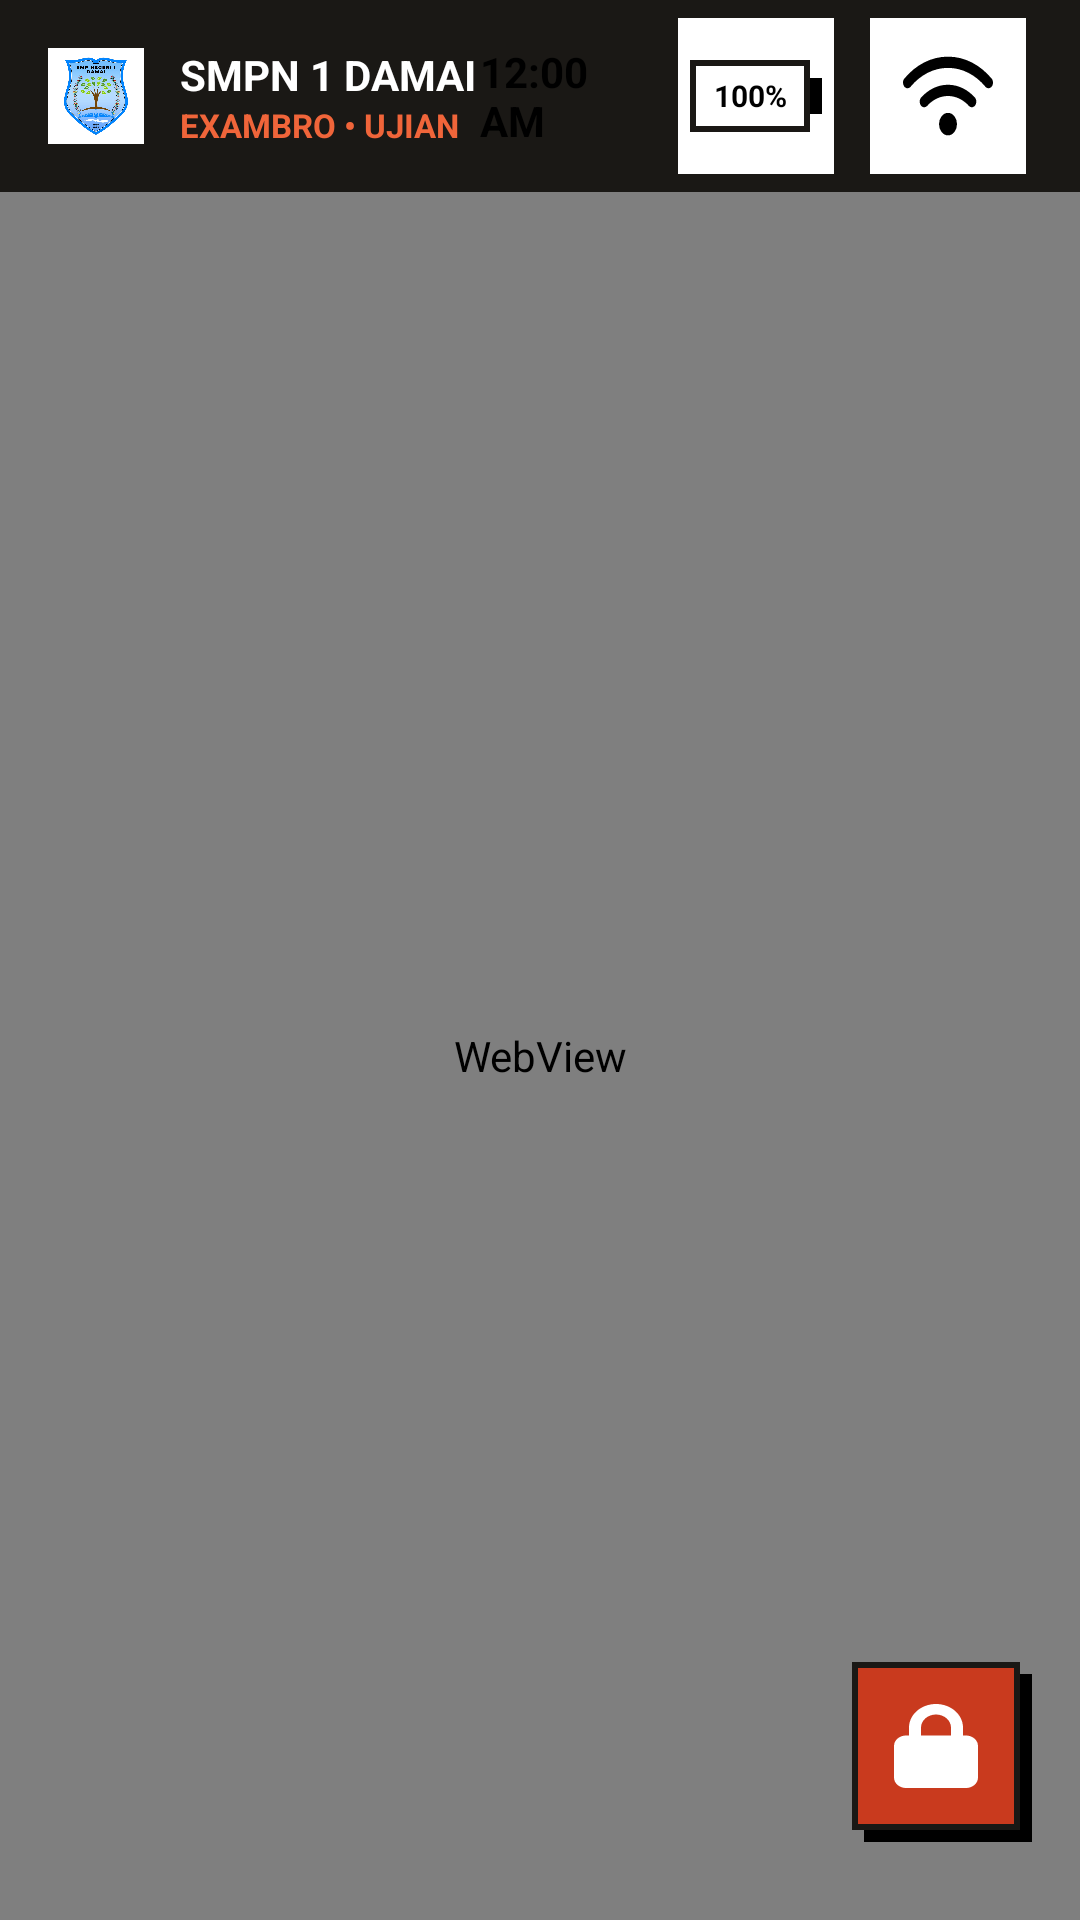

Icon click points for this 1080w x 1920h phone screenshot, format [x,y]:
lock fa: [936,1746]
wifi fa: [948,96]
